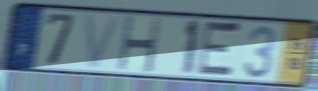1: (180, 18, 201, 77)
3: (243, 24, 277, 79)
7: (43, 11, 80, 68)
E: (195, 18, 244, 81)
H: (116, 14, 162, 75)
V: (83, 13, 123, 70)
